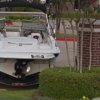Boat: (1, 5, 64, 90)
